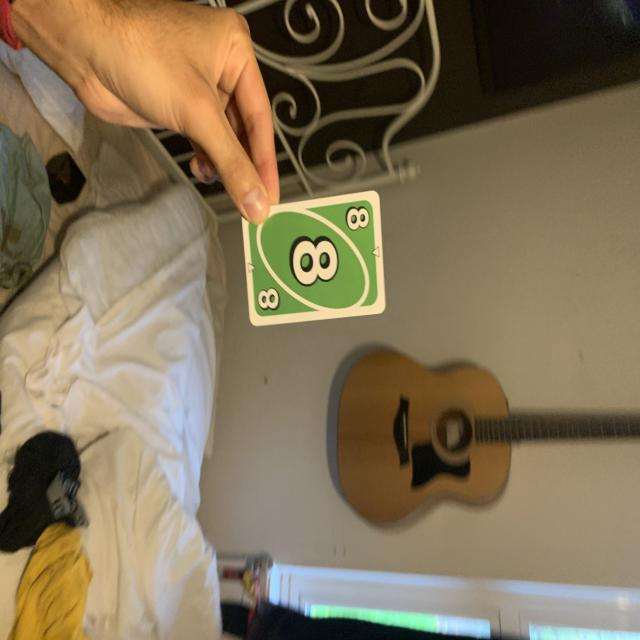lgreen-8: (339, 201, 373, 234)
